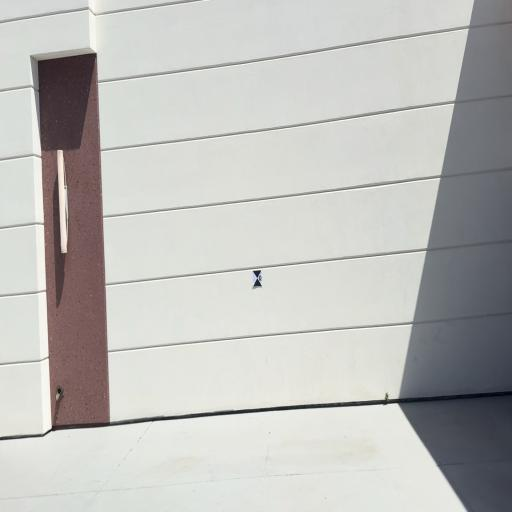target0: (253, 269, 262, 288)
